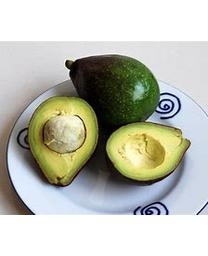avocado: (28, 95, 100, 188), (65, 54, 161, 123), (102, 121, 192, 185)
